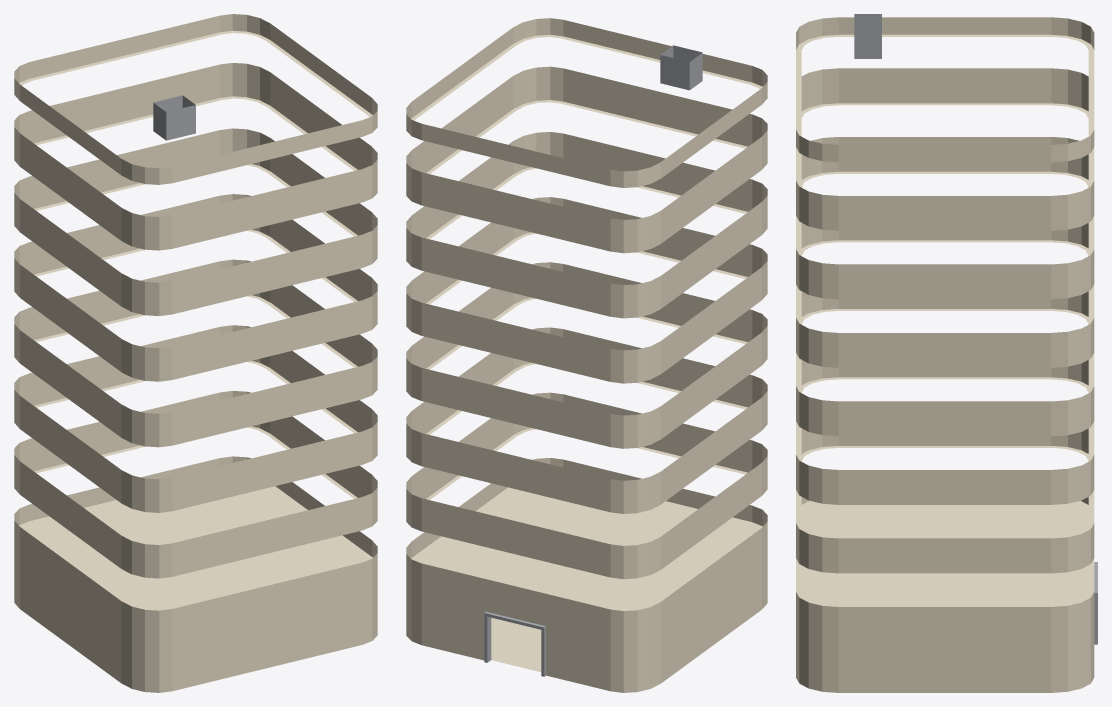
The model's file is Bld_R_high_L5_C.fbx.
3 views of the same model, side by side, from view 1: azimuth 30°, elevation 25°; view 2: azimuth 150°, elevation 25°; view 3: azimuth 270°, elevation 25° (orthographic). The views are drawn at different scales.
Parts seen in each view (by area): view 1: Bld_R_high_L5_C_LOD0; view 2: Bld_R_high_L5_C_LOD0; view 3: Bld_R_high_L5_C_LOD0.
Part boxes in pixels (x1,y1,x2,y2): Bld_R_high_L5_C_LOD0: [14, 14, 377, 692]; Bld_R_high_L5_C_LOD0: [406, 18, 767, 692]; Bld_R_high_L5_C_LOD0: [796, 14, 1097, 692].
Size of what is drawn, in the model's own units: 2200 by 4966 by 2200.
1 material, 1 textured.
